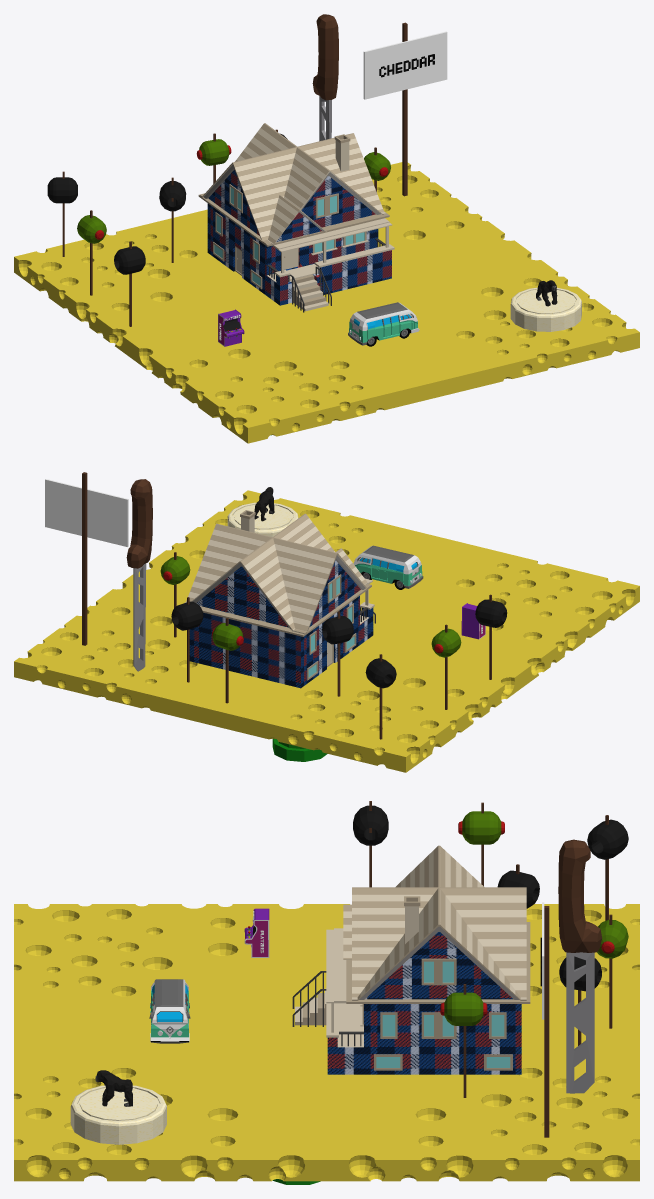
3 views of the same model, one above another, from view 1: azimuth 30°, elevation 25°; view 2: azimuth 150°, elevation 25°; view 3: azimuth 270°, elevation 25° (orthographic). The views are drawn at different scales.
Parts seen in each view (by area): view 1: Cube.022, Cube.171, Cube.023, Cylinder.016, Cube.024, VEHICLES_VAN, Sphere.017, Sphere.016, Sphere.020, Sphere.018, OBJRANDOM_ARCADE, Sphere.022 (+1 smaller); view 2: Cube.022, Cube.171, Cube.023, Cube.024, VEHICLES_VAN, Cylinder.016, Sphere.020, Sphere.016, Sphere.022, Sphere.017, Sphere.021, Sphere.018 (+4 smaller); view 3: Cube.022, Cube.171, Cube.024, Cylinder.016, VEHICLES_VAN, Cube.023, Sphere.019, Sphere.016, Sphere.018, Sphere.017, Sphere.022, OBJRANDOM_ARCADE (+3 smaller).
Part boxes in pixels (left/top/right/bottom): Cube.022: left=14, top=162, right=639, bottom=443; Cube.171: left=198, top=123, right=394, bottom=312; Cube.023: left=363, top=22, right=447, bottom=196; Cylinder.016: left=510, top=287, right=581, bottom=331; Cube.024: left=312, top=14, right=338, bottom=141; VEHICLES_VAN: left=348, top=302, right=419, bottom=346; Sphere.017: left=114, top=241, right=145, bottom=326; Sphere.016: left=47, top=171, right=77, bottom=256; Sphere.020: left=159, top=177, right=186, bottom=262; Sphere.018: left=77, top=210, right=106, bottom=295; OBJRANDOM_ARCADE: left=218, top=309, right=244, bottom=346; Sphere.022: left=196, top=133, right=231, bottom=183; Cube.022: left=14, top=490, right=639, bottom=772; Cube.171: left=184, top=510, right=375, bottom=688; Cube.023: left=45, top=472, right=128, bottom=645; Cube.024: left=126, top=479, right=152, bottom=671; VEHICLES_VAN: left=353, top=545, right=423, bottom=589; Cylinder.016: left=227, top=502, right=298, bottom=536; Sphere.020: left=322, top=611, right=353, bottom=696; Sphere.016: left=365, top=654, right=396, bottom=739; Sphere.022: left=212, top=618, right=243, bottom=703; Sphere.017: left=475, top=594, right=507, bottom=679; Sphere.021: left=171, top=597, right=203, bottom=682; Sphere.018: left=431, top=624, right=461, bottom=709; Cube.022: left=14, top=904, right=639, bottom=1181; Cube.171: left=292, top=845, right=530, bottom=1074; Cube.024: left=558, top=839, right=602, bottom=1093; Cylinder.016: left=70, top=1085, right=166, bottom=1144; VEHICLES_VAN: left=149, top=979, right=190, bottom=1043; Cube.023: left=540, top=902, right=549, bottom=1137; Sphere.019: left=440, top=984, right=487, bottom=1097; Sphere.016: left=587, top=815, right=628, bottom=920; Sphere.018: left=458, top=802, right=504, bottom=885; Sphere.017: left=353, top=801, right=388, bottom=887; Sphere.022: left=597, top=914, right=628, bottom=1028; OBJRANDOM_ARCADE: left=244, top=908, right=269, bottom=957.
Bounding box in the file's own units: 3917 × 2590 × 4000.
Materials: 39 (4 with a texture image).
